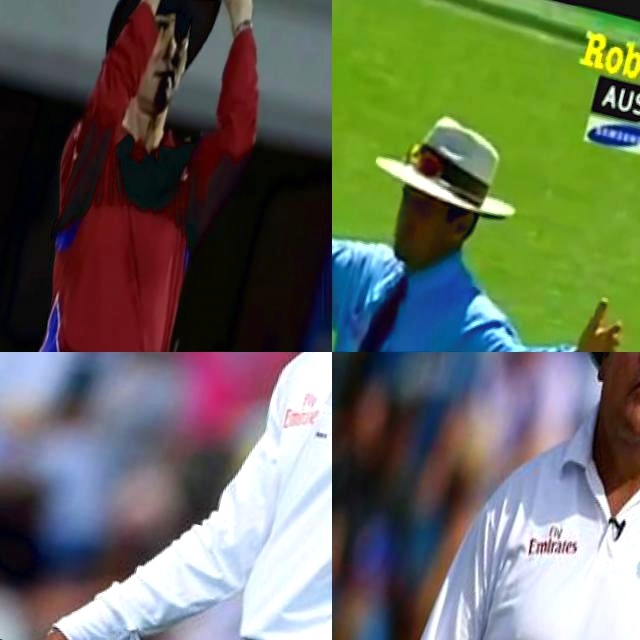No_Action: (0, 352, 332, 640), (353, 352, 640, 640)
Six: (0, 0, 324, 352)
Wide: (332, 41, 640, 352)
